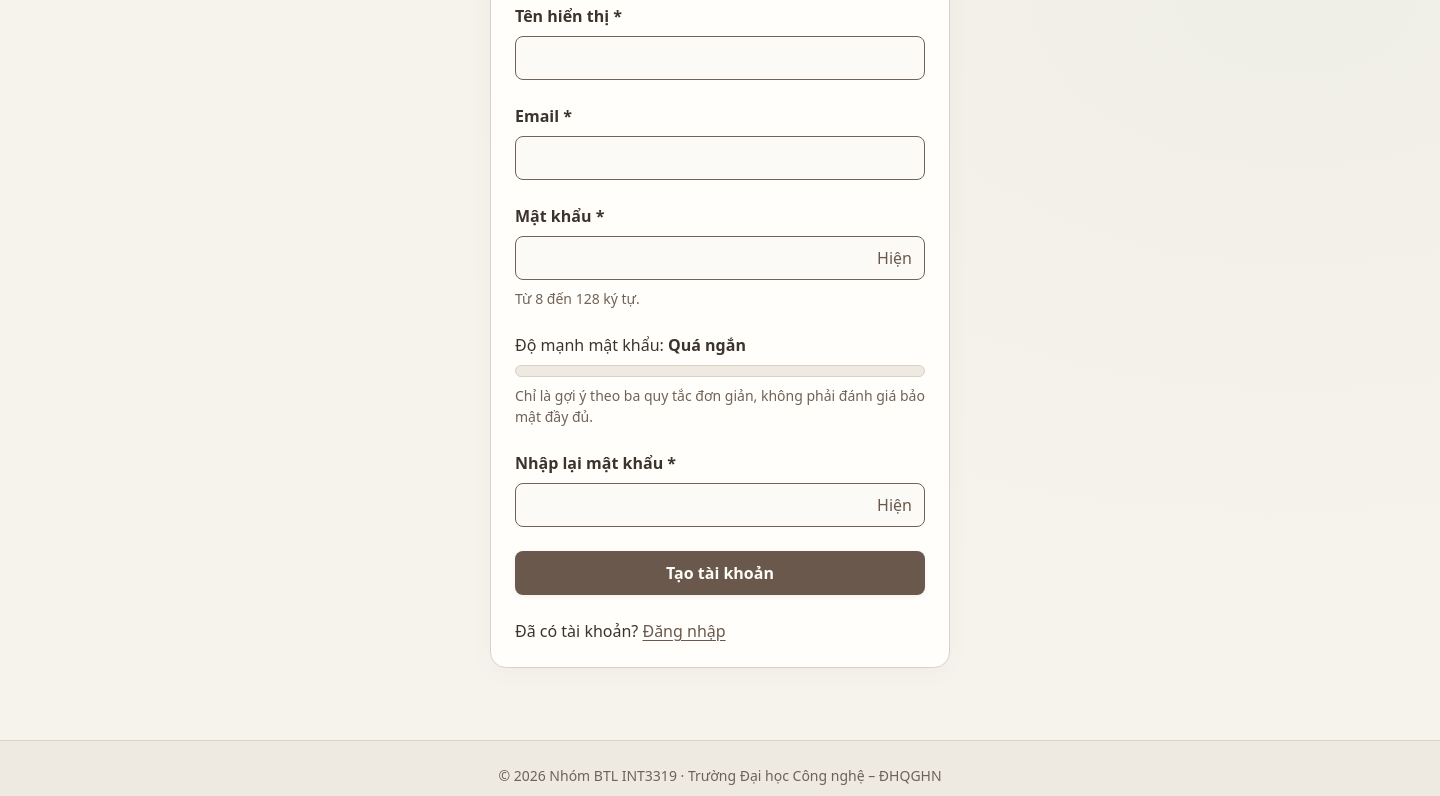
authentication, navigation and public discovery › validates registration and never sends confirmPassword to the API
(page scrolled)
Click the button "Tạo tài khoản" at (720, 573), box top-left (515, 551), bottom-right (925, 595)
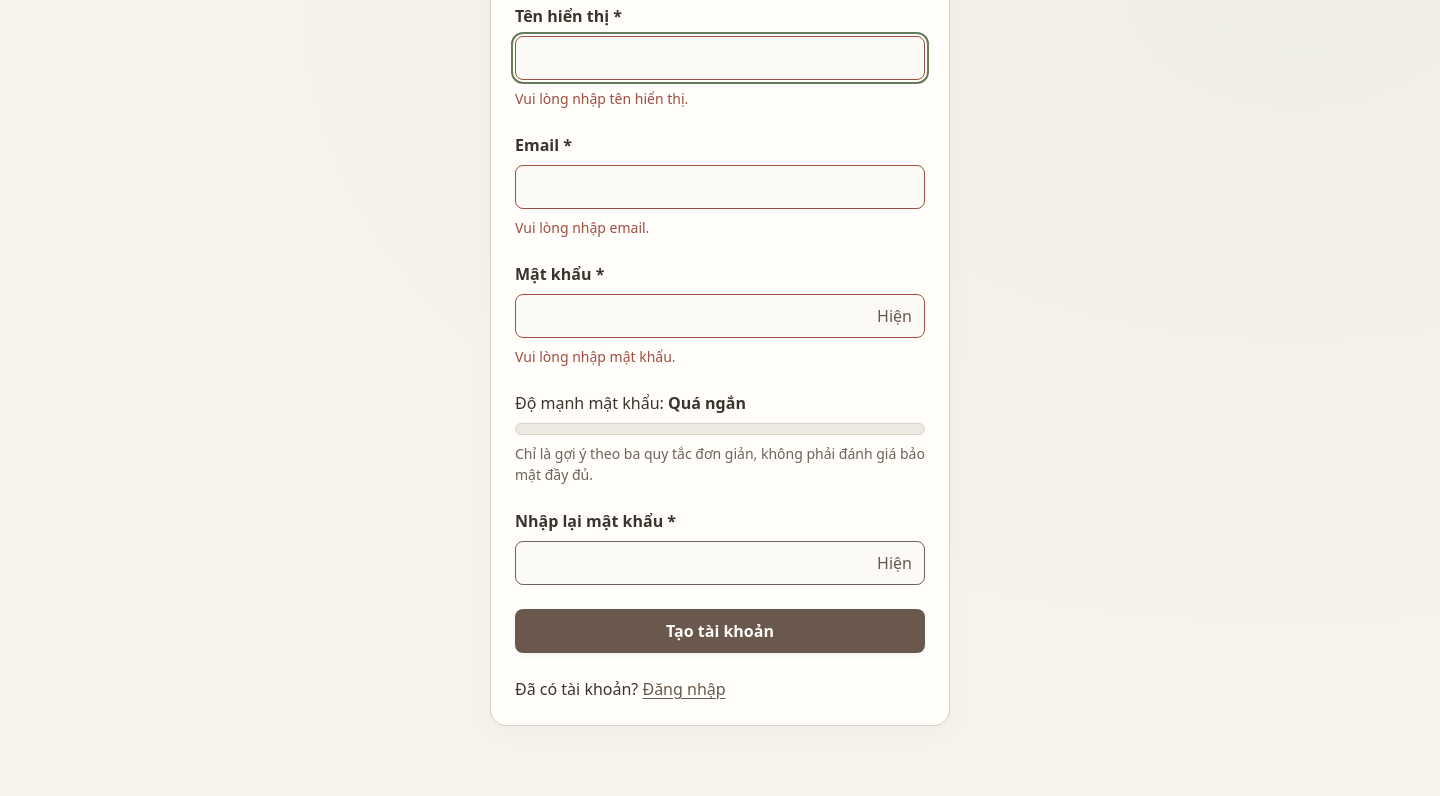
Expected: the text "Vui lòng nhập tên hiển thị." is shown, top-left (515, 89), bottom-right (688, 108)
Type " Nguyễn Văn A " into the field labelled "Tên hiển thị *" at (720, 58), box top-left (515, 36), bottom-right (925, 80)
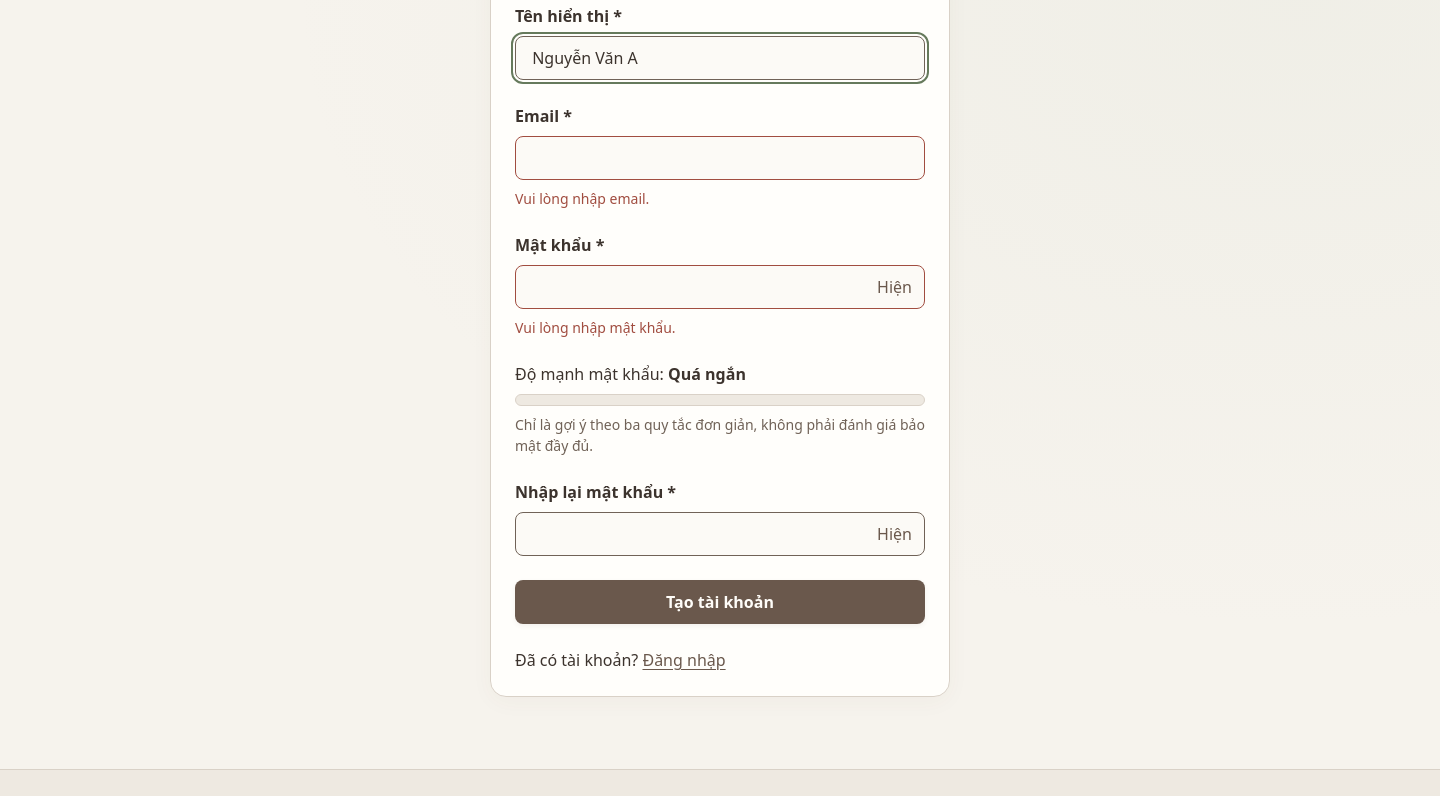
Type "A@EXAMPLE.COM" into the field labelled "Email *" at (720, 158), box top-left (515, 136), bottom-right (925, 180)
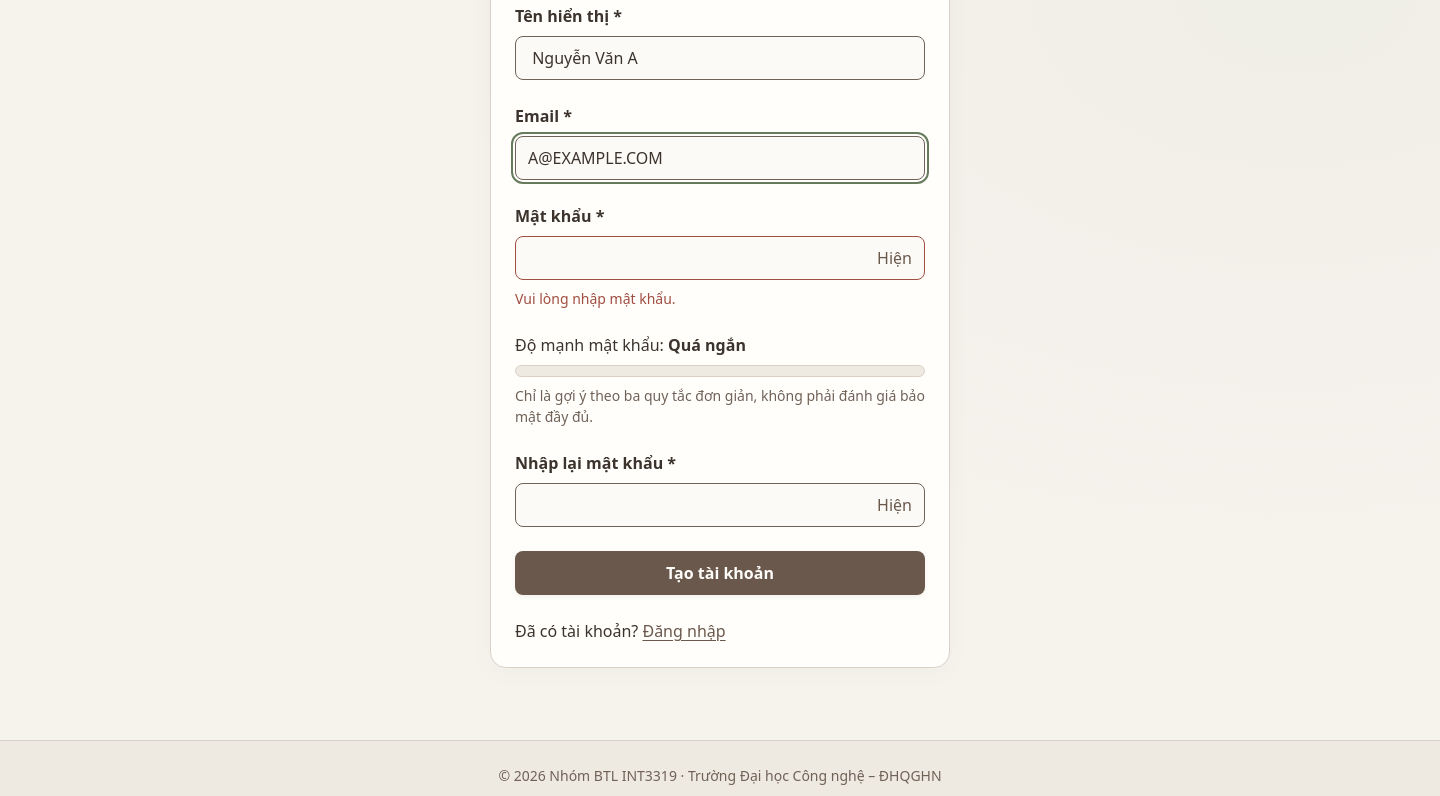
Type "password123" into the password field labelled "Mật khẩu *" at (720, 258), box top-left (515, 236), bottom-right (925, 280)
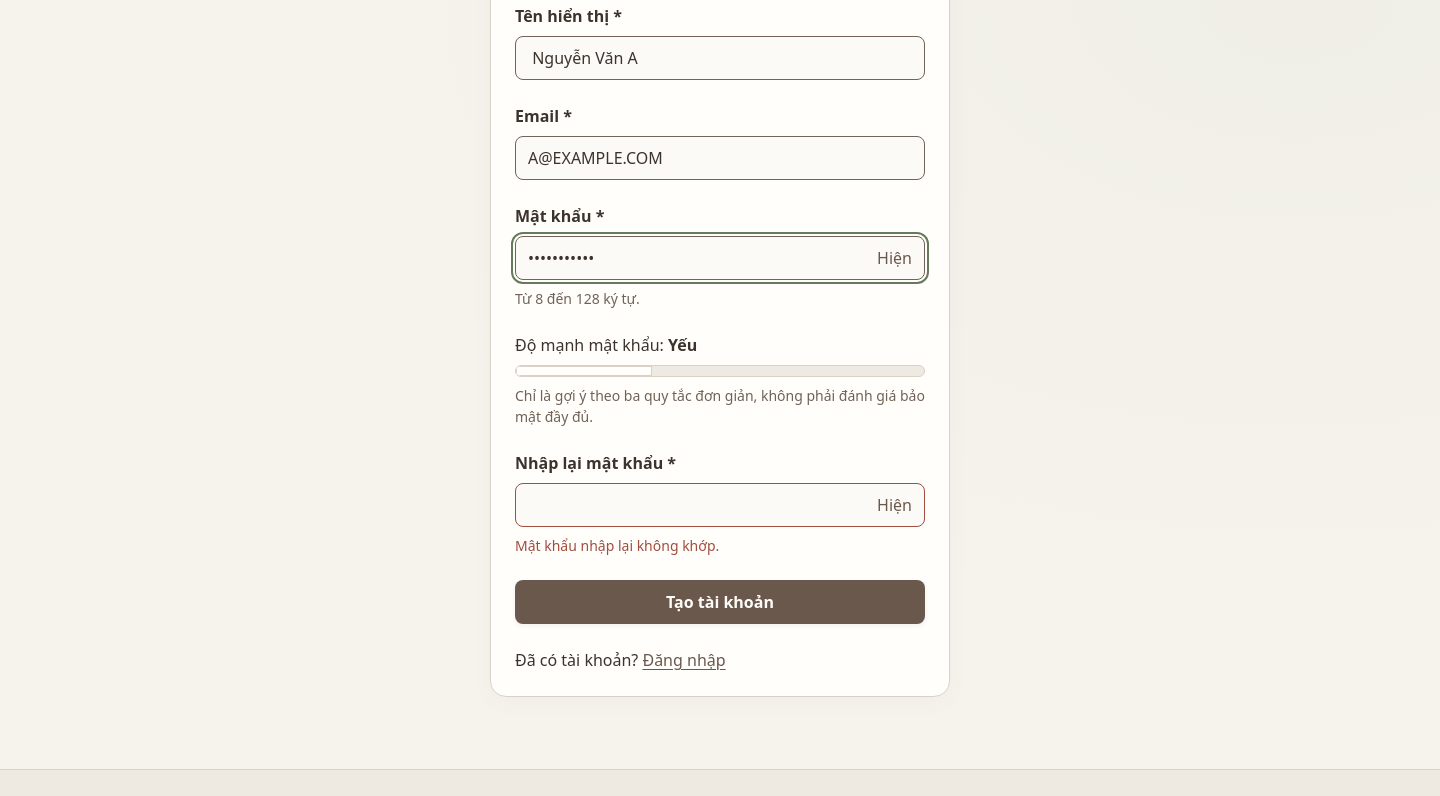
Type "password123" into the password field labelled "Nhập lại mật khẩu *" at (720, 505), box top-left (515, 483), bottom-right (925, 527)
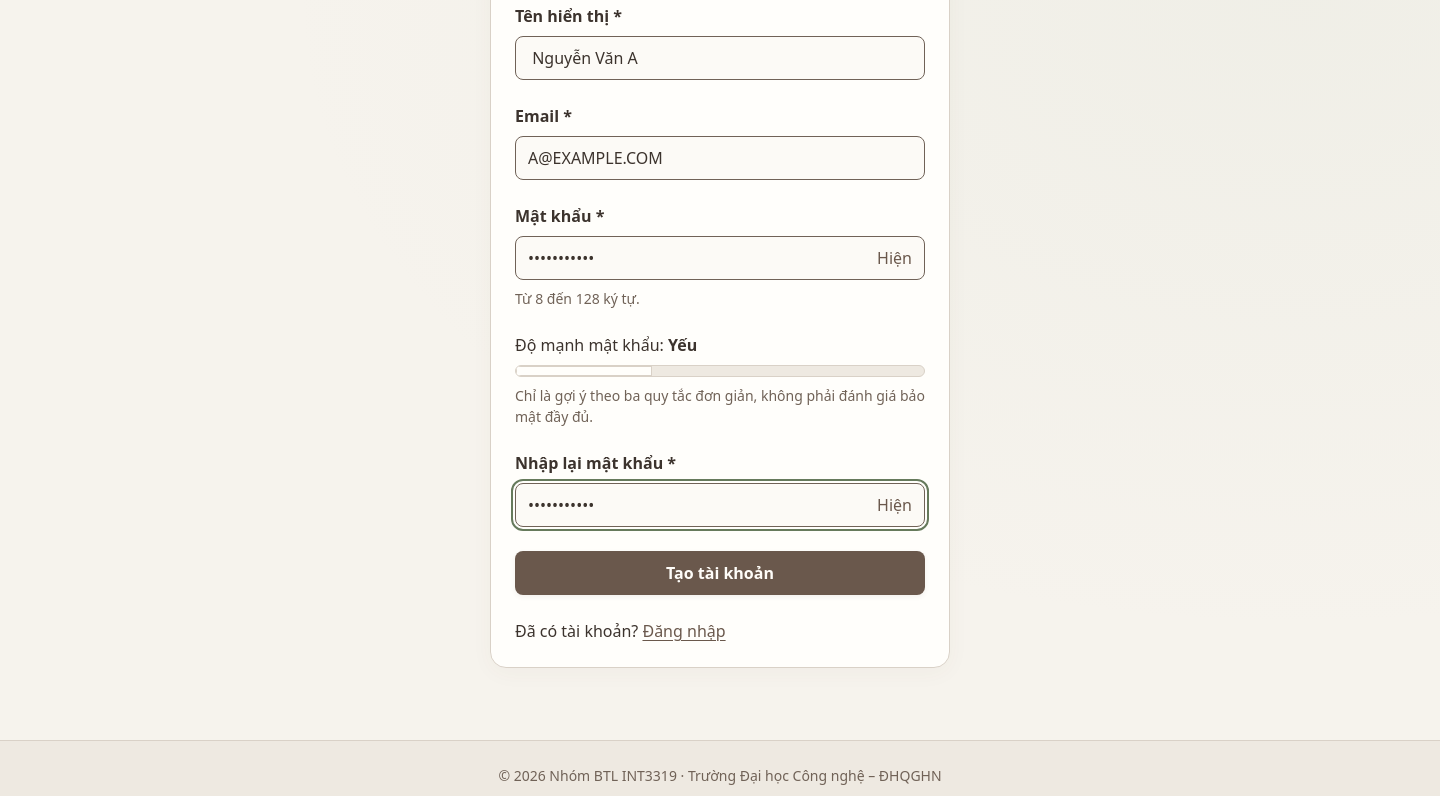
Click the button "Tạo tài khoản" at (720, 573), box top-left (515, 551), bottom-right (925, 595)
(page scrolled)
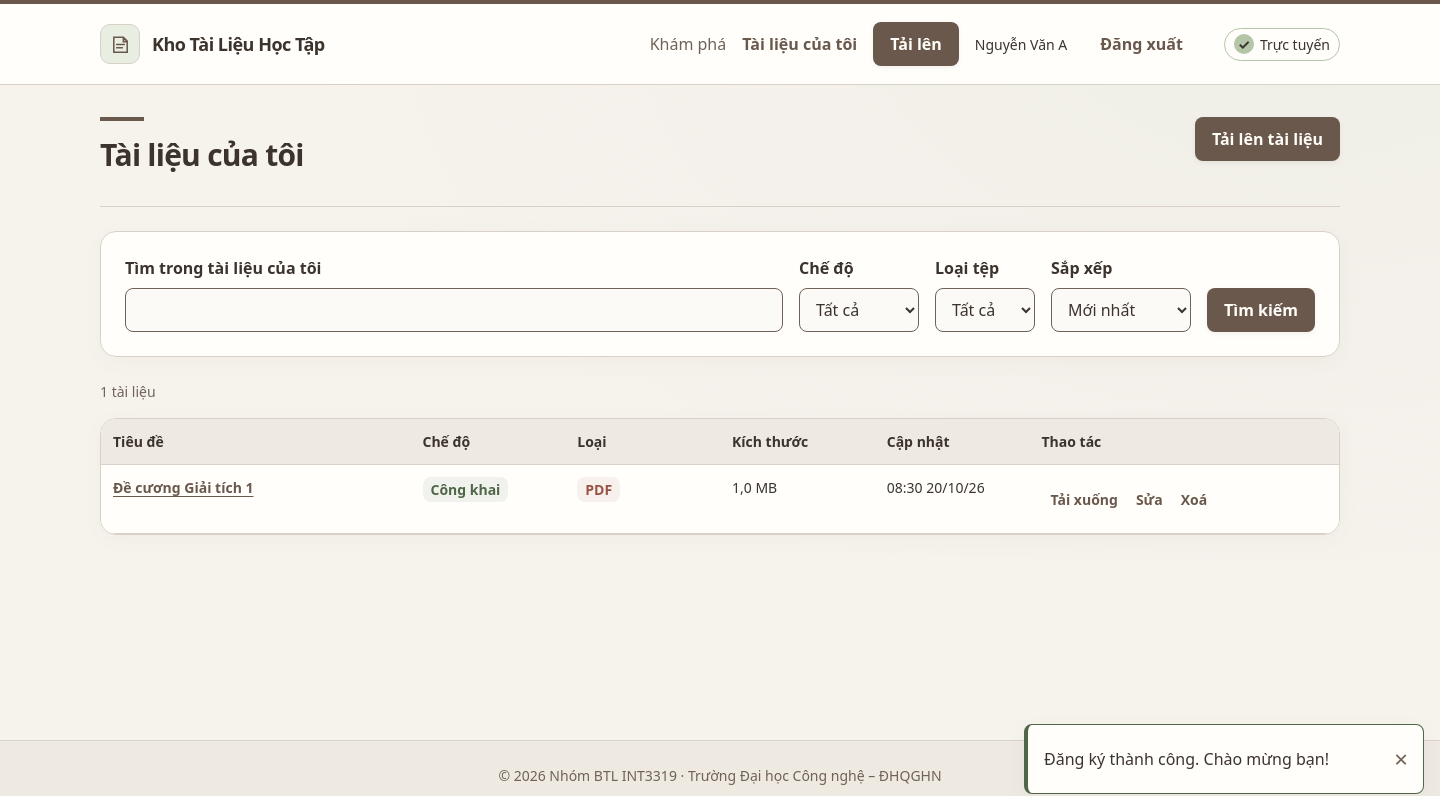
Expected: the heading "Tài liệu của tôi" is shown, top-left (100, 117), bottom-right (304, 174)
